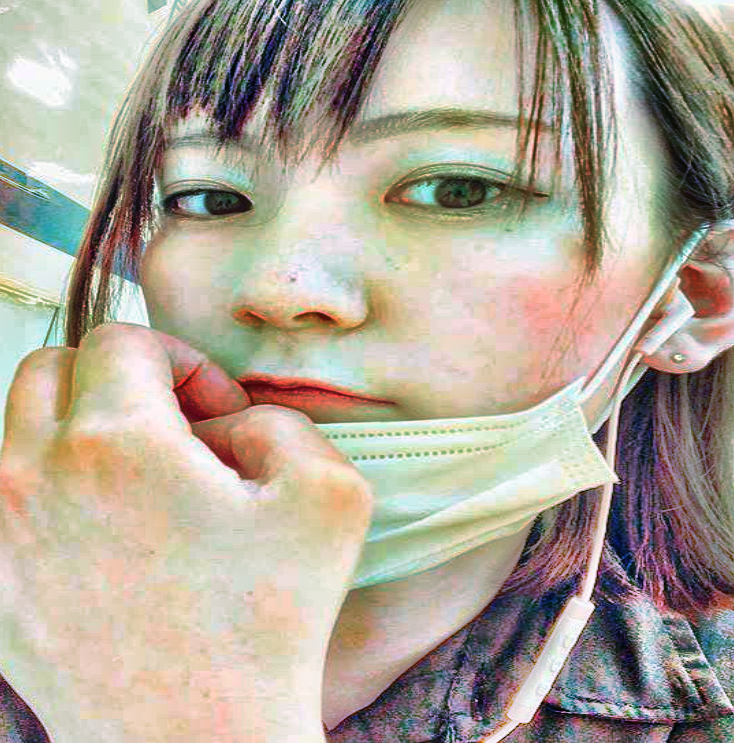mask_weared_incorrect: (131, 1, 733, 575)
